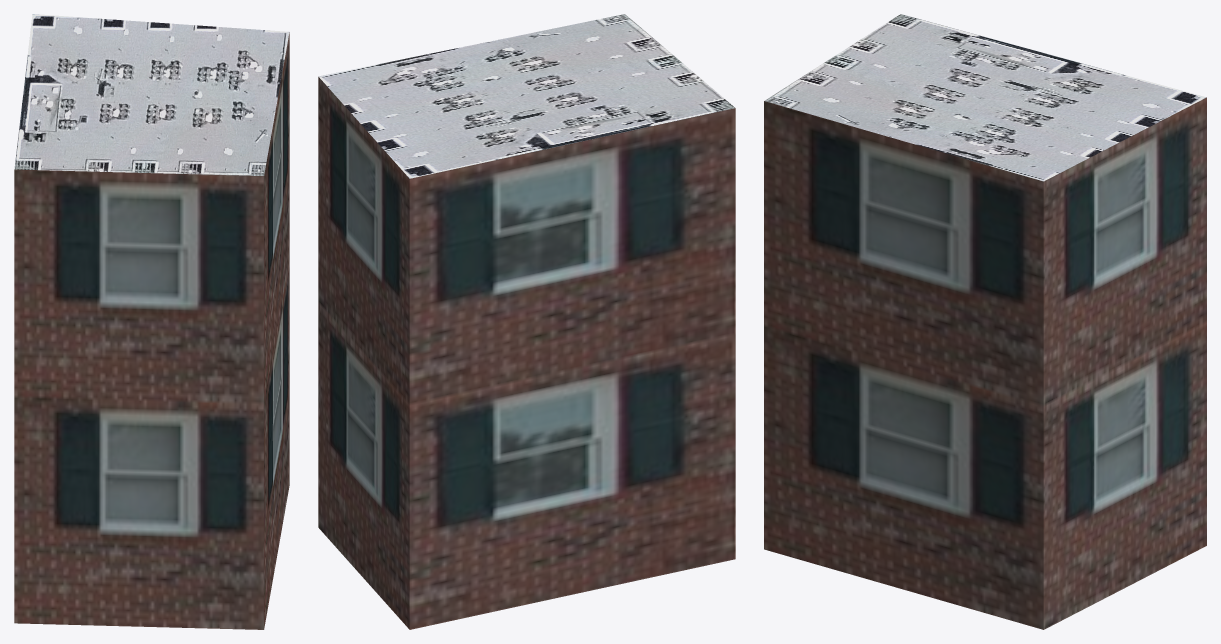
Rendered from ResTex__4465.fbx.
3 renders of one model, left to right at view 1: azimuth 30°, elevation 25°; view 2: azimuth 150°, elevation 25°; view 3: azimuth 270°, elevation 25°, orthographic.
Parts seen in each view (by area): view 1: CityEngineMaterial_14_m, CityEngineMaterial_m; view 2: CityEngineMaterial_14_m, CityEngineMaterial_m; view 3: CityEngineMaterial_14_m, CityEngineMaterial_m.
Part boxes in pixels (x1,y1,x2,y2): CityEngineMaterial_14_m: (14, 32, 289, 629); CityEngineMaterial_m: (14, 14, 289, 175); CityEngineMaterial_14_m: (318, 77, 735, 629); CityEngineMaterial_m: (318, 14, 734, 178); CityEngineMaterial_14_m: (764, 97, 1206, 629); CityEngineMaterial_m: (764, 14, 1206, 181).
Size of the model in its own units: 4.81 by 6 by 5.37.
Materials: 2 (2 with a texture image).
